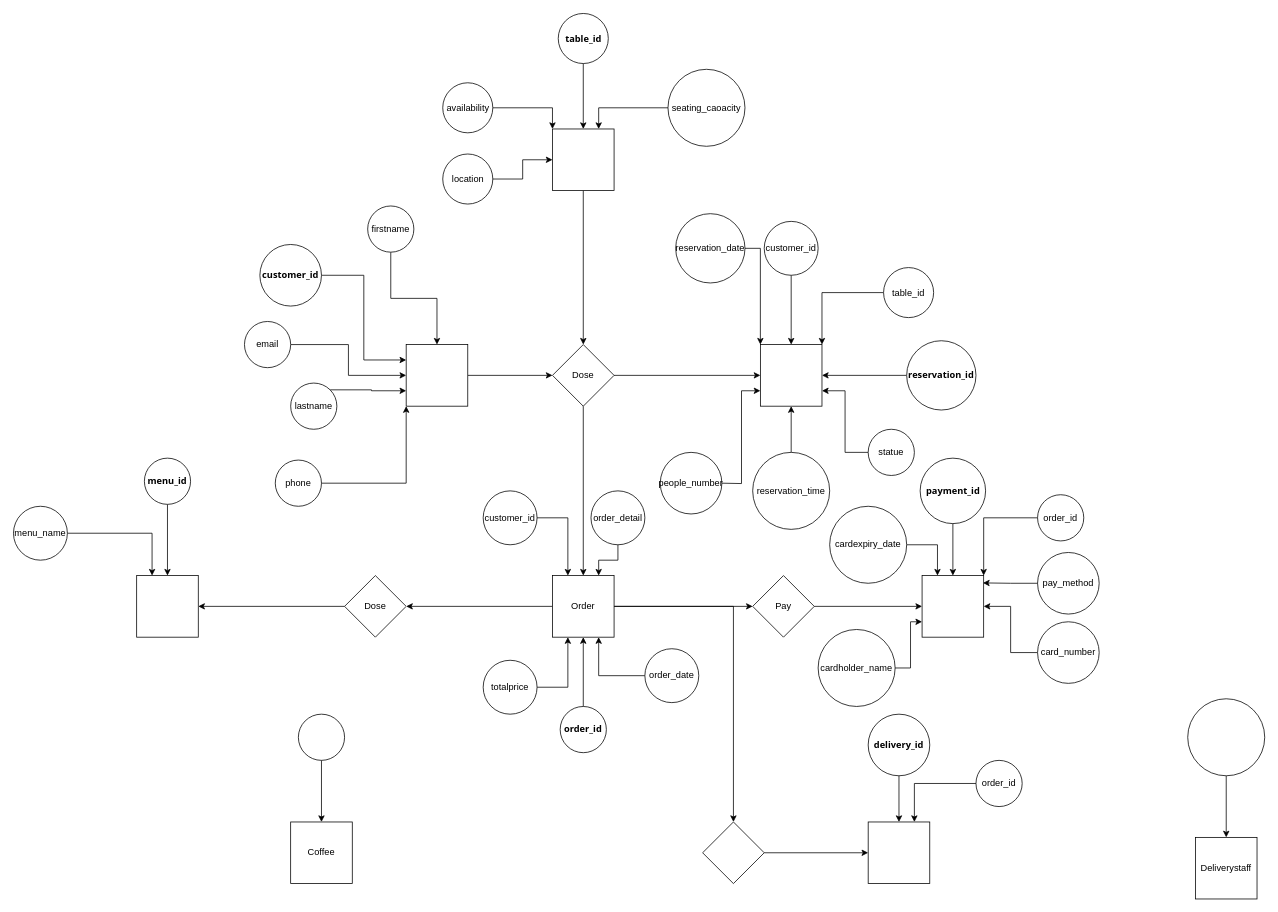
Some shapes in this 1278 by 912 pixel diagram are drawn without their labels. Each missing label, with the box of its shape:
coffee_id: (298, 713, 345, 760)
Customer: (405, 344, 468, 406)
Delivery: (867, 821, 930, 884)
deliverystaff_id: (1187, 698, 1265, 776)
Does: (702, 821, 764, 884)
Menu: (136, 575, 198, 637)
Payment: (921, 575, 984, 637)
Reservation: (760, 344, 822, 406)
Table: (552, 128, 614, 191)
